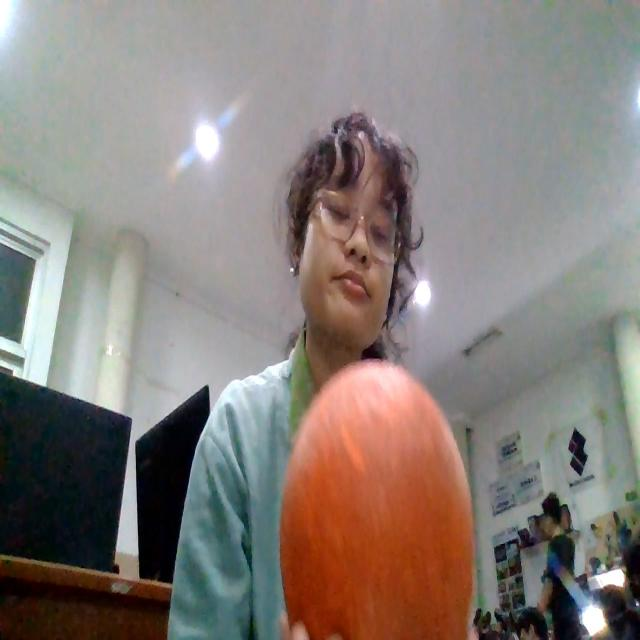ball: (278, 356, 474, 638)
